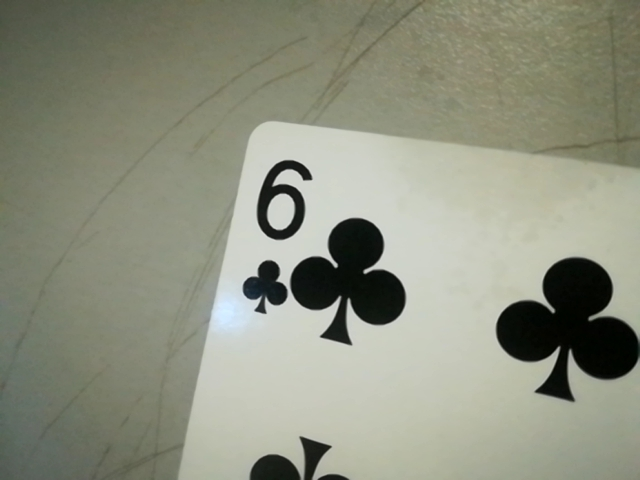mh 6: (241, 149, 307, 320)
